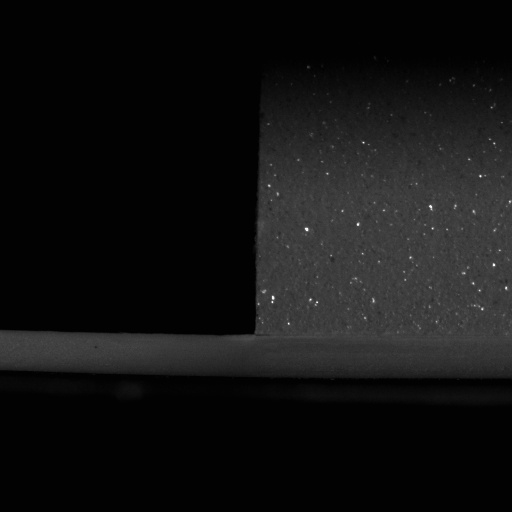changdai: (0, 329, 258, 377)
